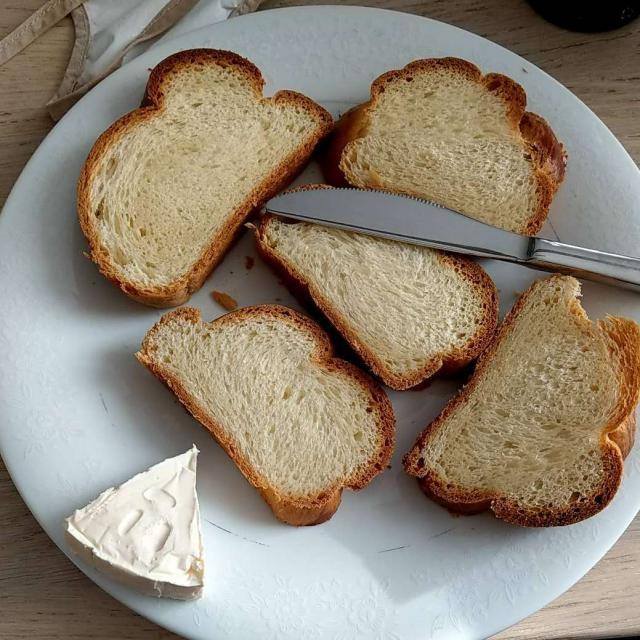bread: (89, 48, 631, 530)
cheese: (54, 437, 214, 598)
